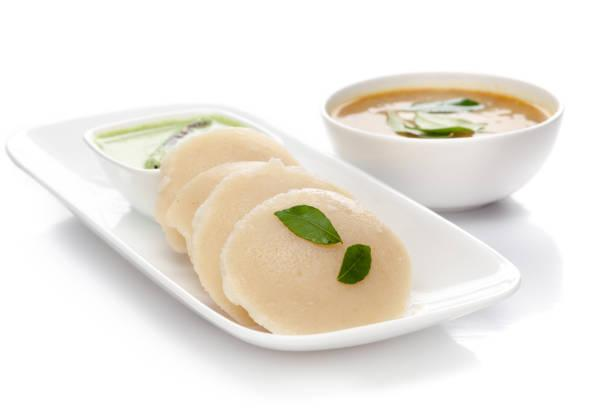coconut chutney: (91, 121, 188, 164)
idli: (171, 145, 399, 341)
sambhar: (343, 83, 555, 168)
